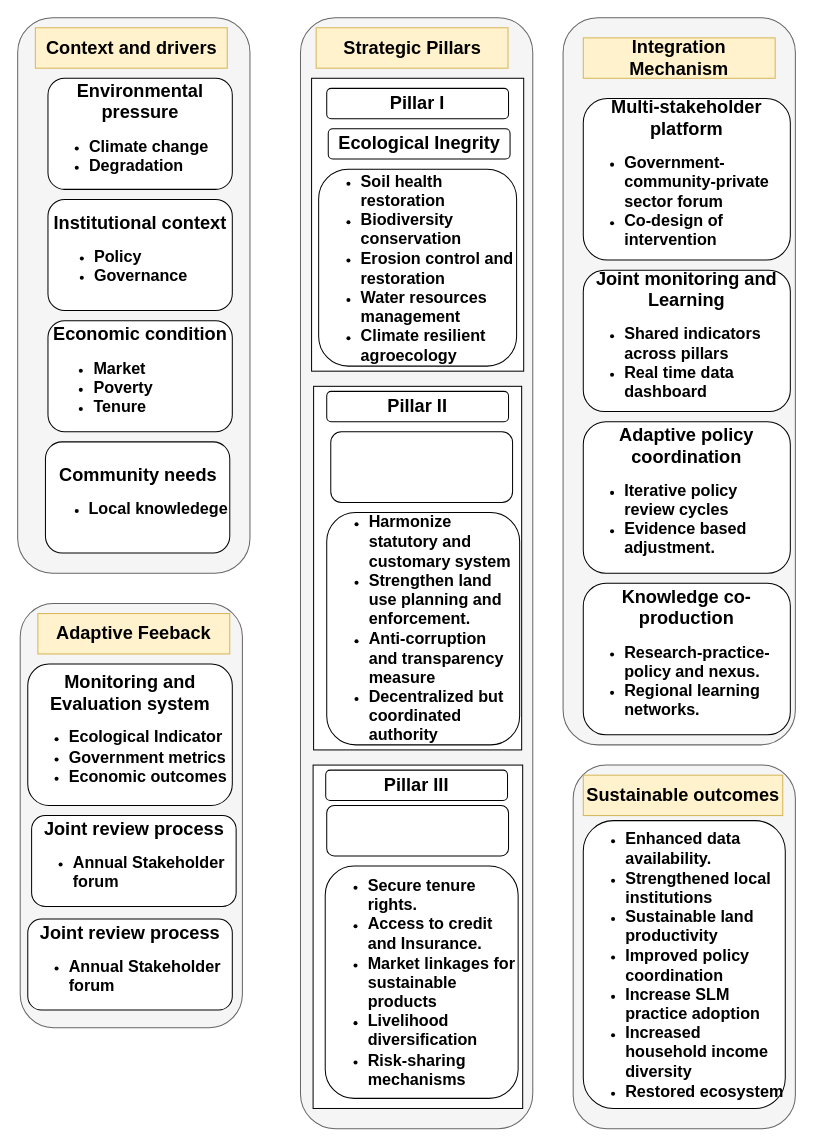
This 813x1146 diagram has some shape labels left out. Here are the shapes that lost their labels. From the top down, the centre of each, then its label:
point (421, 466): Governance and Institutional capacity
point (417, 830): Economic and Tenure security
